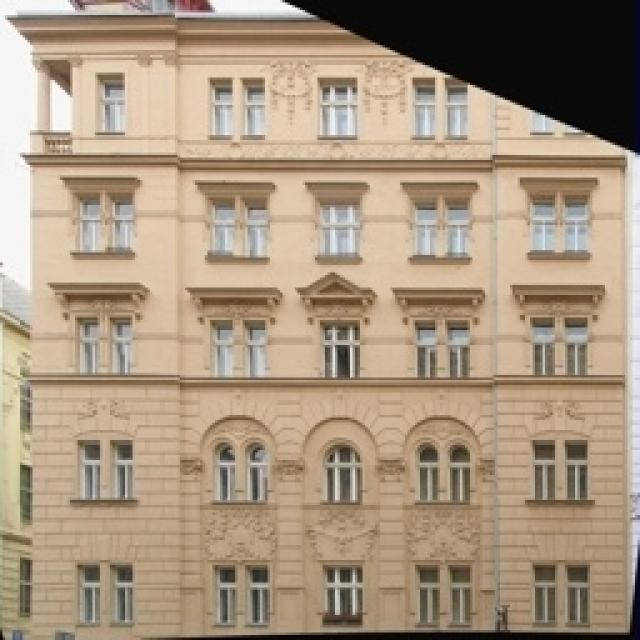building: (20, 2, 622, 640)
